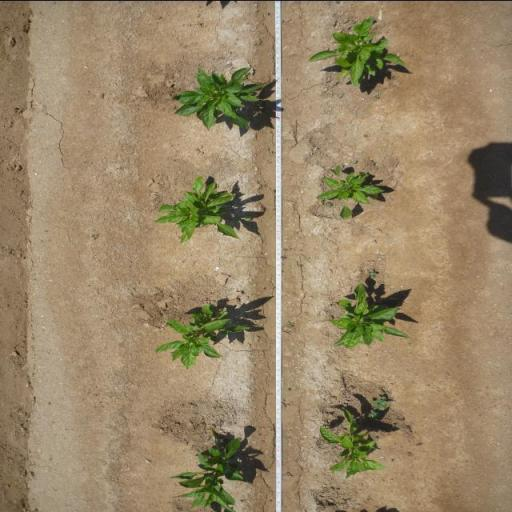plant: (306, 15, 412, 90), (151, 302, 254, 370), (172, 62, 266, 136), (170, 423, 248, 512), (327, 280, 414, 350), (154, 179, 237, 246), (318, 404, 389, 479), (314, 163, 387, 219)
weed: (370, 396, 393, 410), (367, 410, 381, 419), (368, 268, 378, 278), (285, 320, 295, 328), (244, 214, 253, 222), (352, 159, 359, 164), (374, 94, 380, 98), (326, 202, 332, 206)
